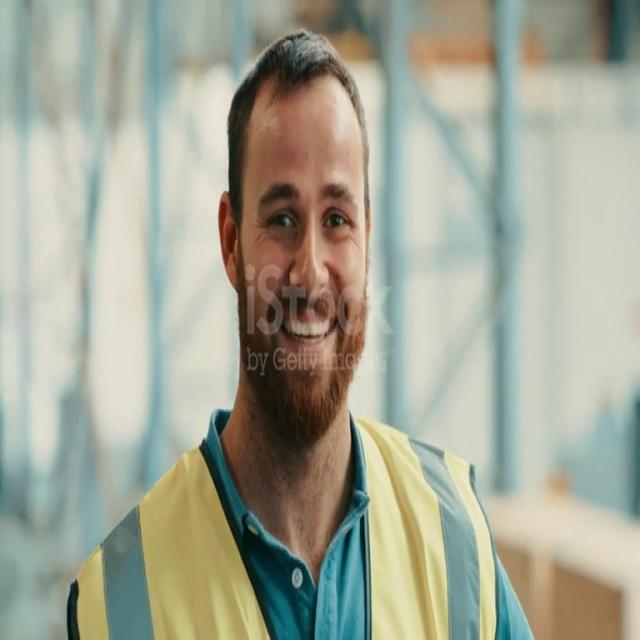sem_capacete: (196, 16, 383, 479)
